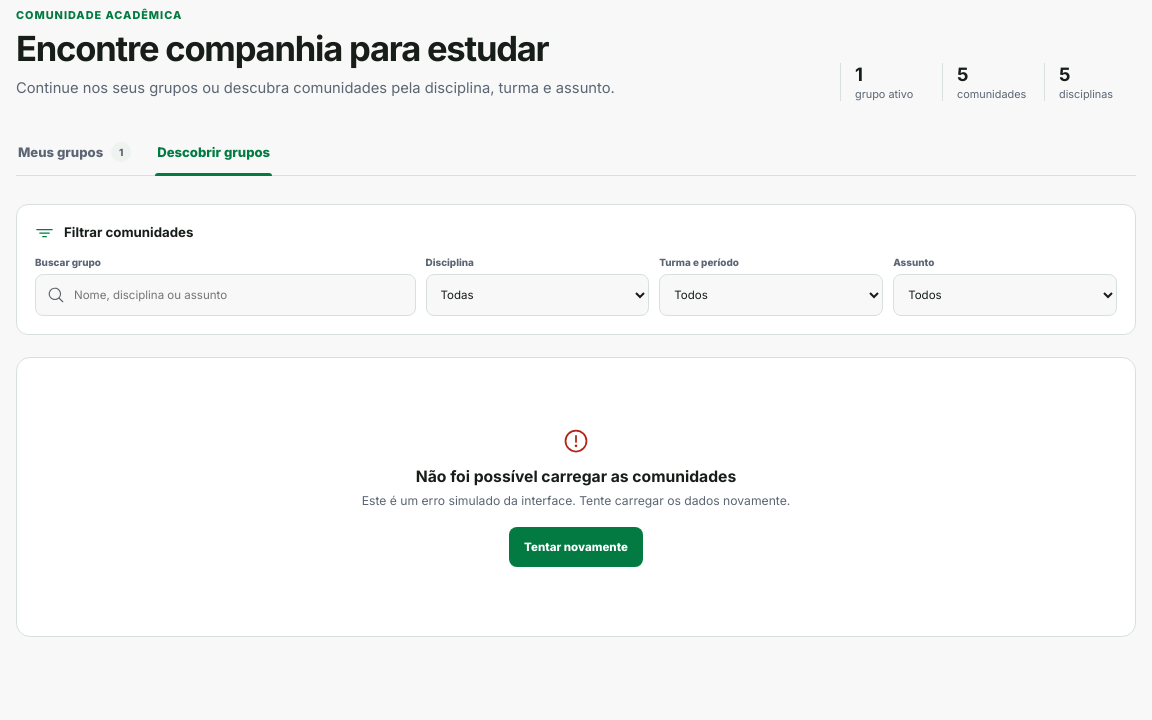
Test case: GroupDirectory › trata carregamento e erro simulado com nova tentativa
Expected: the message is shown, 16,357 -> 1136,637
Click the button "Tentar novamente". click: point(576, 547)
box: 509,527 -> 643,567
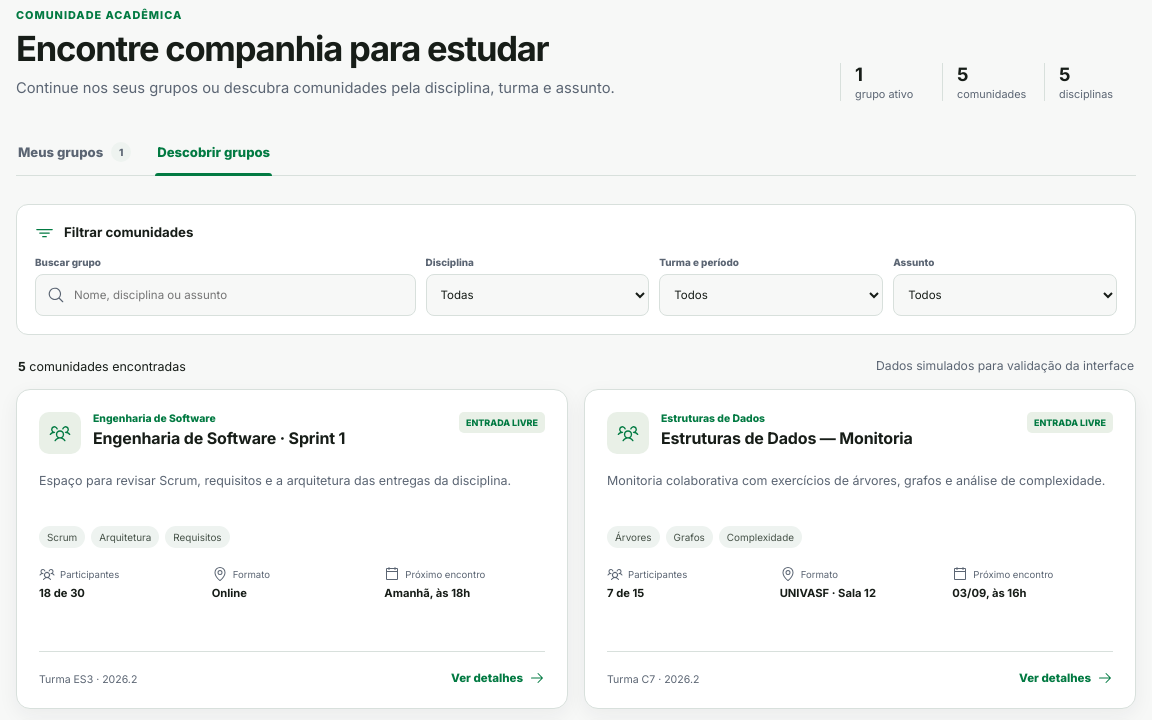
Expected: the message shows "5 comunidades encontradas", 18,357 -> 1134,375
